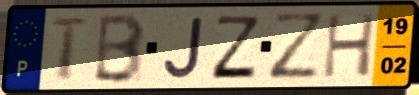B: (91, 11, 147, 86)
H: (321, 12, 378, 80)
J: (161, 15, 206, 82)
T: (48, 16, 92, 82)
Z: (266, 11, 328, 83), (209, 14, 263, 81)
